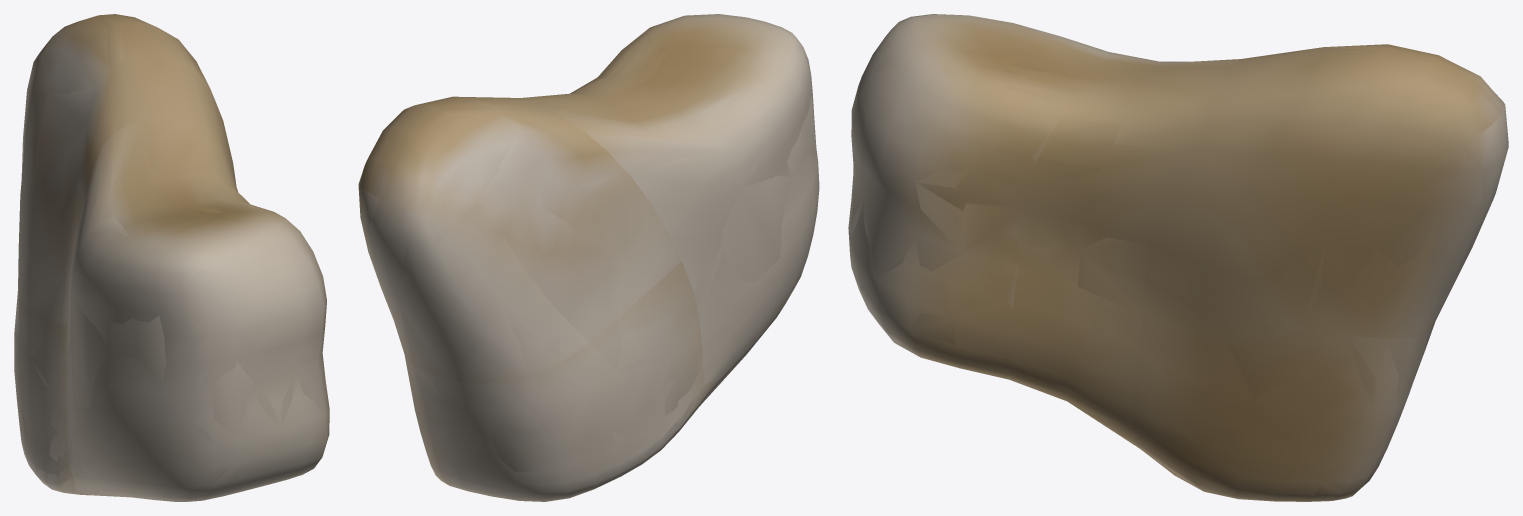
The model's file is R tarsi quartum.fbx.
3 views of the same model, side by side, from view 1: azimuth 30°, elevation 25°; view 2: azimuth 150°, elevation 25°; view 3: azimuth 270°, elevation 25° (orthographic). The views are drawn at different scales.
Visible parts, largest first — view 1: R tarsi quartum, R tarsi quartum low; view 2: R tarsi quartum, R tarsi quartum low; view 3: R tarsi quartum, R tarsi quartum low.
Part boxes in pixels (box(x1,y1,x2,y2)): R tarsi quartum: box(14, 14, 329, 501); R tarsi quartum low: box(14, 15, 326, 497); R tarsi quartum: box(360, 14, 819, 501); R tarsi quartum low: box(358, 19, 816, 501); R tarsi quartum: box(848, 14, 1508, 501); R tarsi quartum low: box(849, 14, 1507, 499).
Size of the model in its own units: 1.44 by 2.19 by 2.91.
